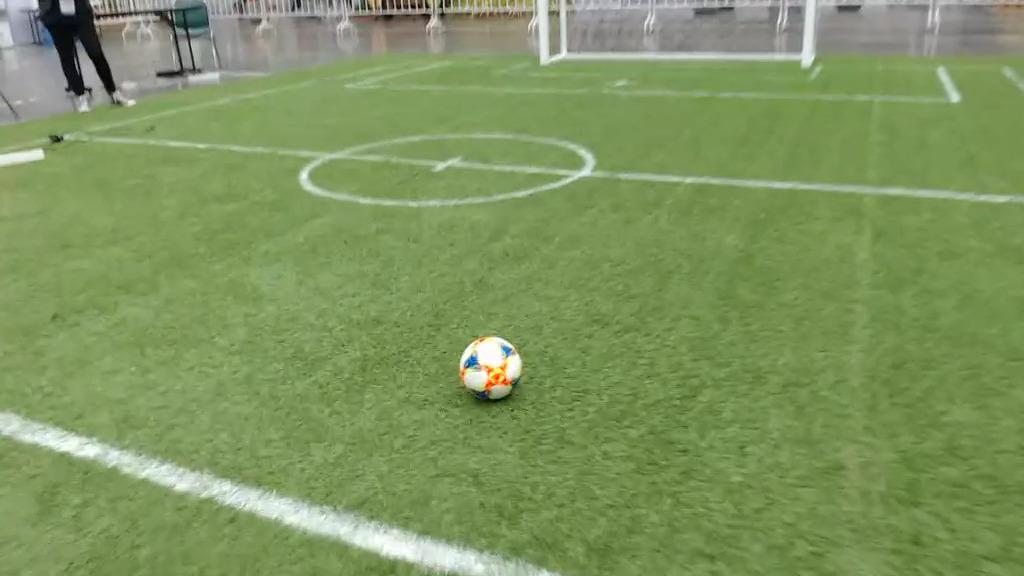ball: (459, 334, 523, 400)
